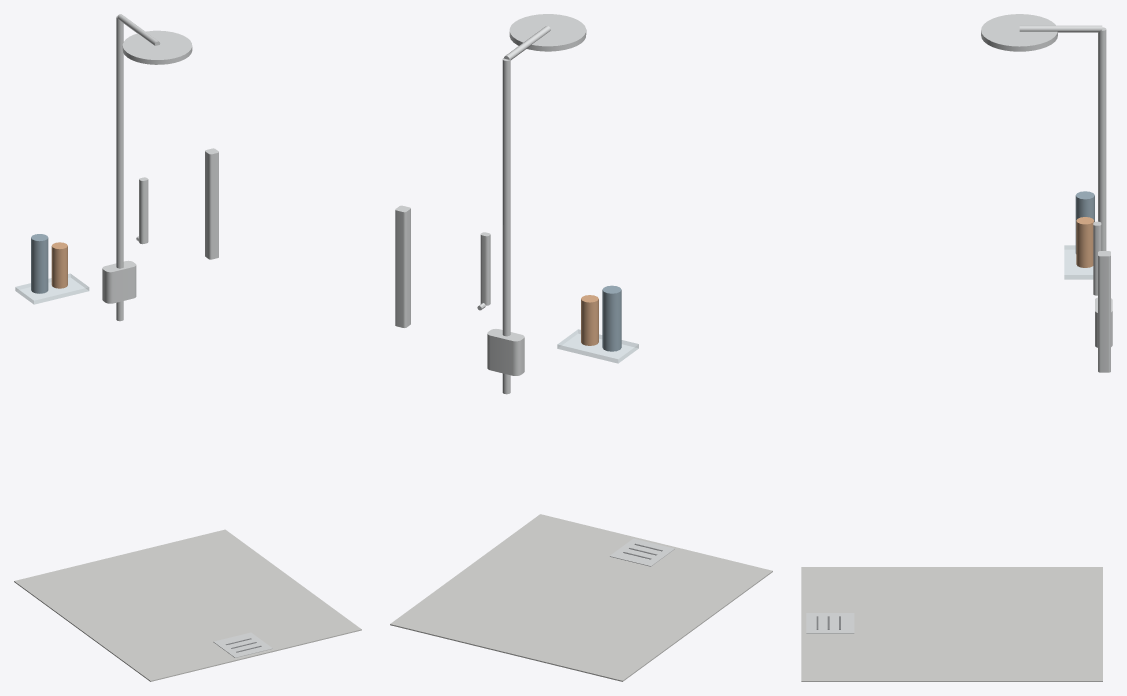
3 renders of one model, left to right at view 1: azimuth 30°, elevation 25°; view 2: azimuth 150°, elevation 25°; view 3: azimuth 270°, elevation 25°, orthographic. The views are drawn at different scales.
Visible parts, largest first — view 1: Sen tắm Rộng=900; Sâu=1000; view 2: Sen tắm Rộng=900; Sâu=1000; view 3: Sen tắm Rộng=900; Sâu=1000.
Part boxes in pixels (bbox=[...]): Sen tắm Rộng=900; Sâu=1000: bbox=[14, 14, 361, 681]; Sen tắm Rộng=900; Sâu=1000: bbox=[390, 14, 772, 681]; Sen tắm Rộng=900; Sâu=1000: bbox=[801, 14, 1112, 681].
Bounding box in the file's own units: 0.84 × 2.06 × 0.97.
